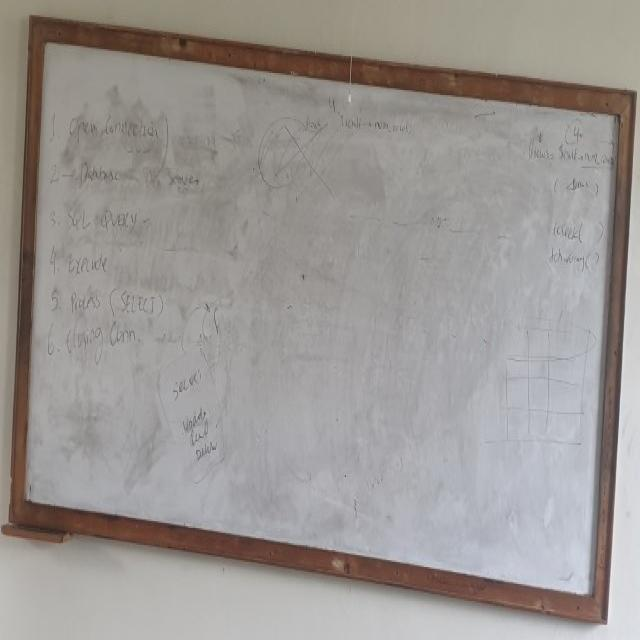White-board: (17, 30, 626, 621)
